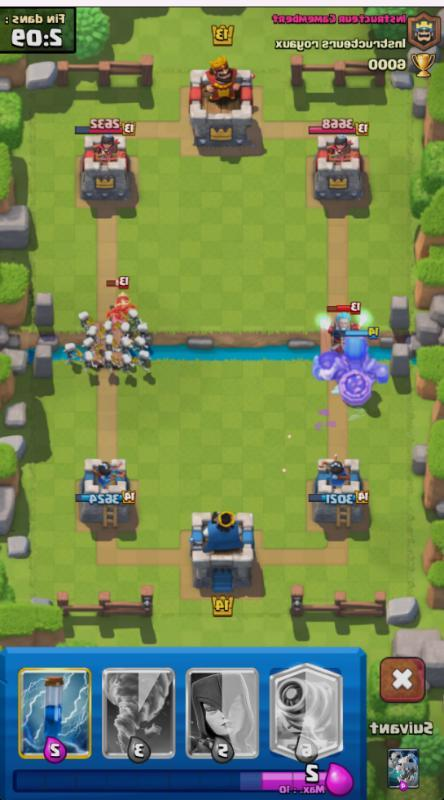enemy_ice_wizard: (312, 297, 376, 339)
enemy_princess: (95, 270, 141, 315)
player_giant_skeleton: (307, 328, 393, 410)
player_skeletons: (119, 314, 150, 341), (108, 349, 138, 373), (81, 350, 107, 371), (57, 342, 81, 360), (78, 327, 102, 345), (72, 309, 95, 327), (133, 349, 156, 367), (78, 337, 101, 355), (98, 319, 121, 337), (97, 334, 120, 352)
